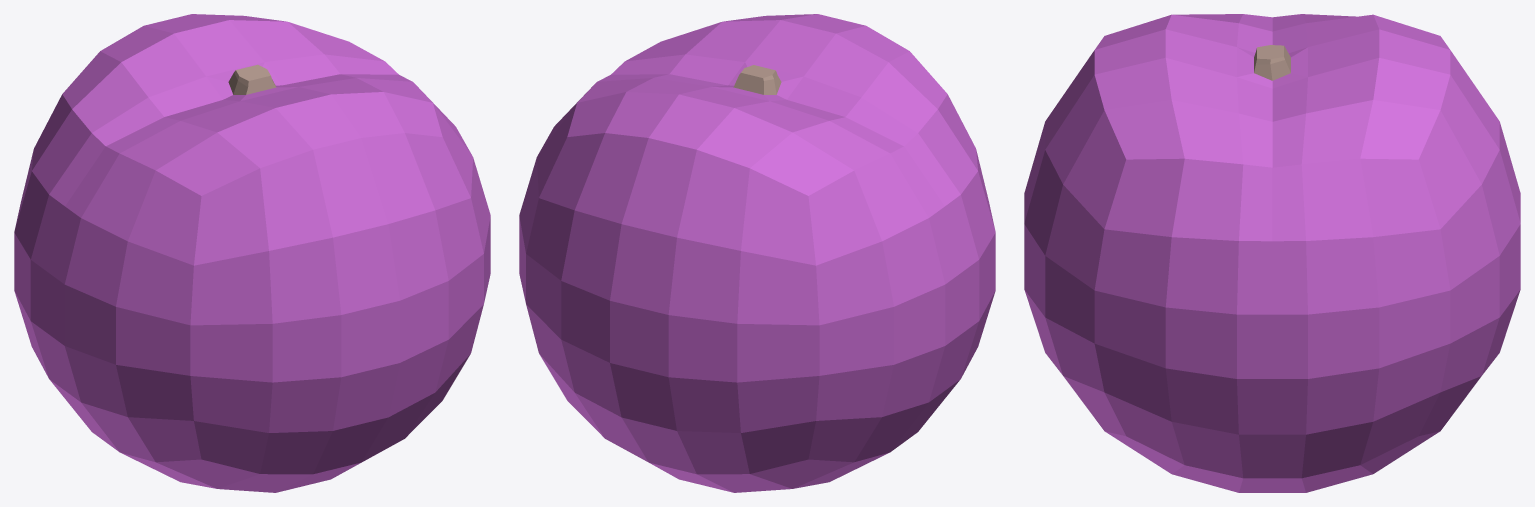
Rendered from peach.glb.
3 views of the same model, side by side, from view 1: azimuth 30°, elevation 25°; view 2: azimuth 150°, elevation 25°; view 3: azimuth 270°, elevation 25° (orthographic). The views are drawn at different scales.
Visible parts, largest first — view 1: Roundcube.005_Roundcube.007; view 2: Roundcube.005_Roundcube.007; view 3: Roundcube.005_Roundcube.007.
Part boxes in pixels (bbox=[...]): Roundcube.005_Roundcube.007: bbox=[14, 14, 490, 492]; Roundcube.005_Roundcube.007: bbox=[519, 14, 995, 492]; Roundcube.005_Roundcube.007: bbox=[1024, 14, 1520, 492].
Bounding box in the file's own units: 9.8 × 9.22 × 9.8.
